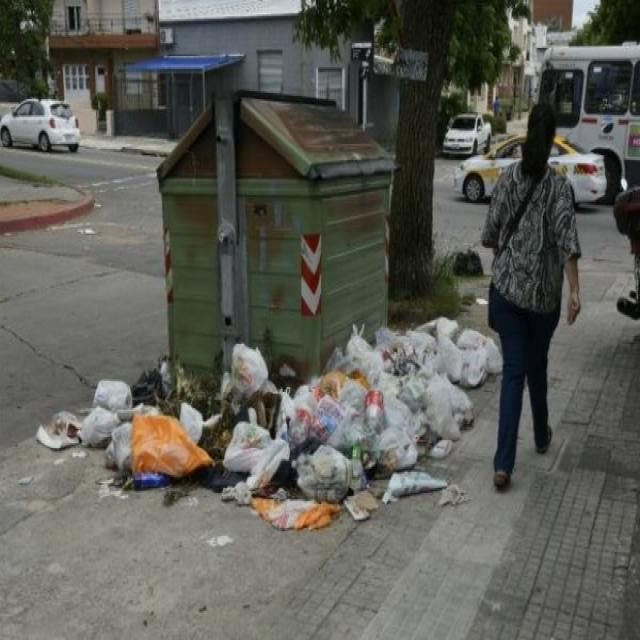garbage: (110, 373, 333, 509), (355, 333, 447, 499), (85, 374, 157, 508), (372, 309, 495, 381), (309, 350, 367, 500), (394, 328, 460, 429), (32, 403, 102, 472), (446, 238, 480, 294)
